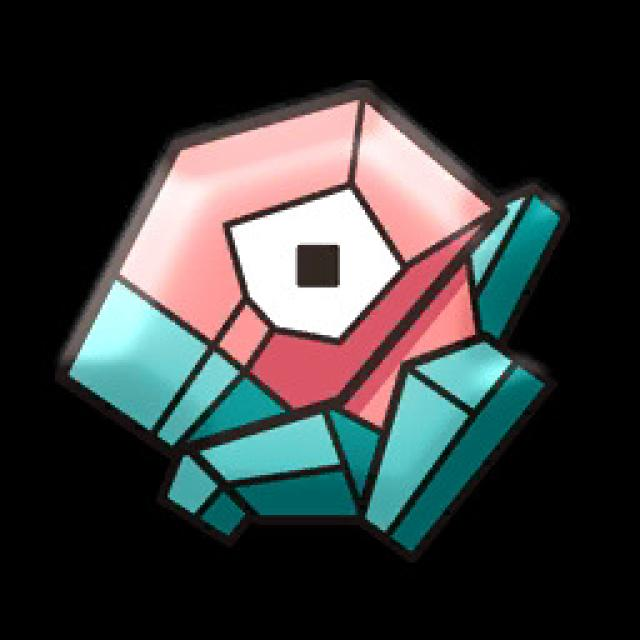Porygon: (66, 97, 555, 542)
